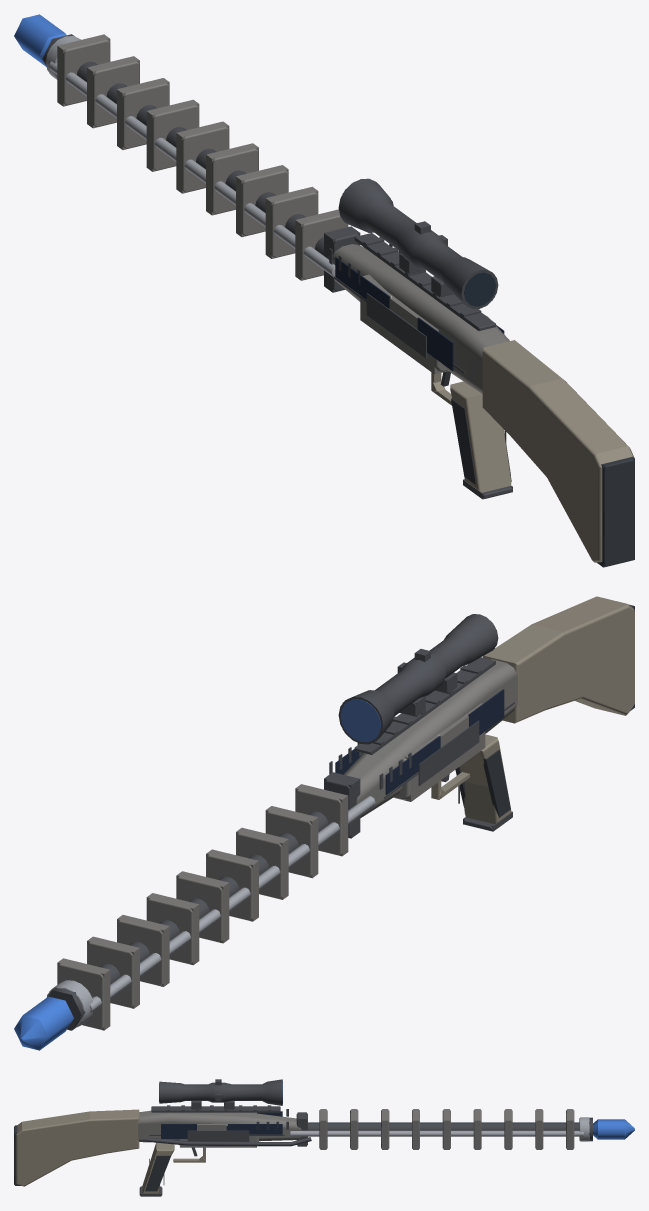
The model's file is lance.glb.
The picture shows the model from 3 angles, top to bottom: view 1: azimuth 30°, elevation 25°; view 2: azimuth 150°, elevation 25°; view 3: azimuth 270°, elevation 25°; orthographic projection. The views are drawn at different scales.
Parts seen in each view (by area): view 1: L0, L1; view 2: L0, L1; view 3: L0, L1.
Boxes of the visible parts, box(x1,y1,x2,y2) form: L0: box(14, 14, 634, 566); L1: box(49, 34, 634, 567); L0: box(14, 596, 634, 1050); L1: box(49, 605, 634, 1030); L0: box(14, 1079, 634, 1195); L1: box(15, 1079, 588, 1196).
Size of the model in its own units: 0.0699 by 0.2409 by 1.21.
